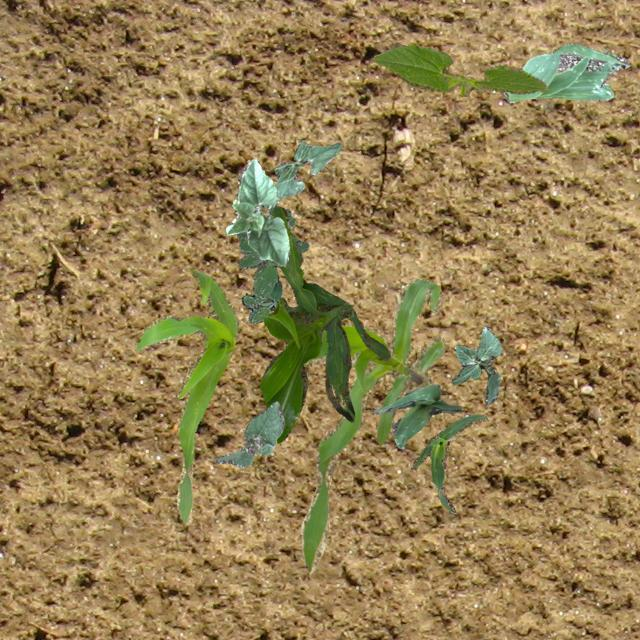crop: (300, 278, 444, 570), (258, 206, 389, 442), (134, 268, 236, 524), (372, 41, 546, 96), (409, 414, 486, 516), (503, 42, 629, 102), (224, 157, 288, 266), (372, 383, 460, 448), (214, 401, 284, 466), (450, 324, 500, 404), (274, 140, 340, 198)
weed: (232, 205, 306, 322)
